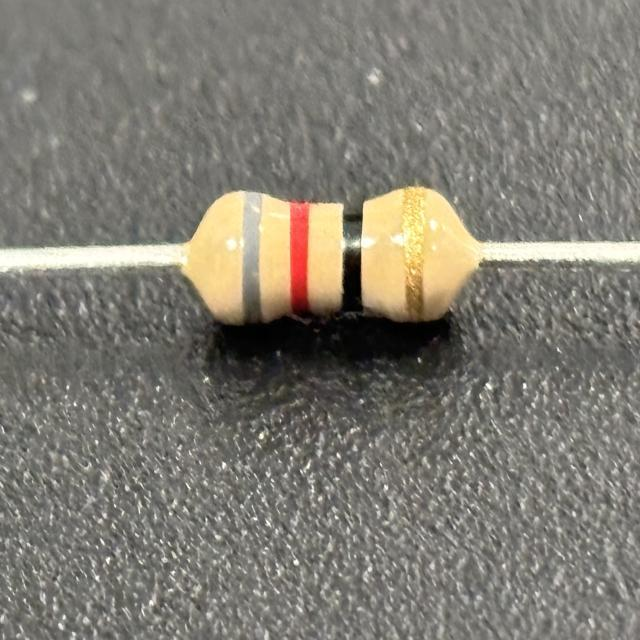resistor: (205, 183, 450, 329)
